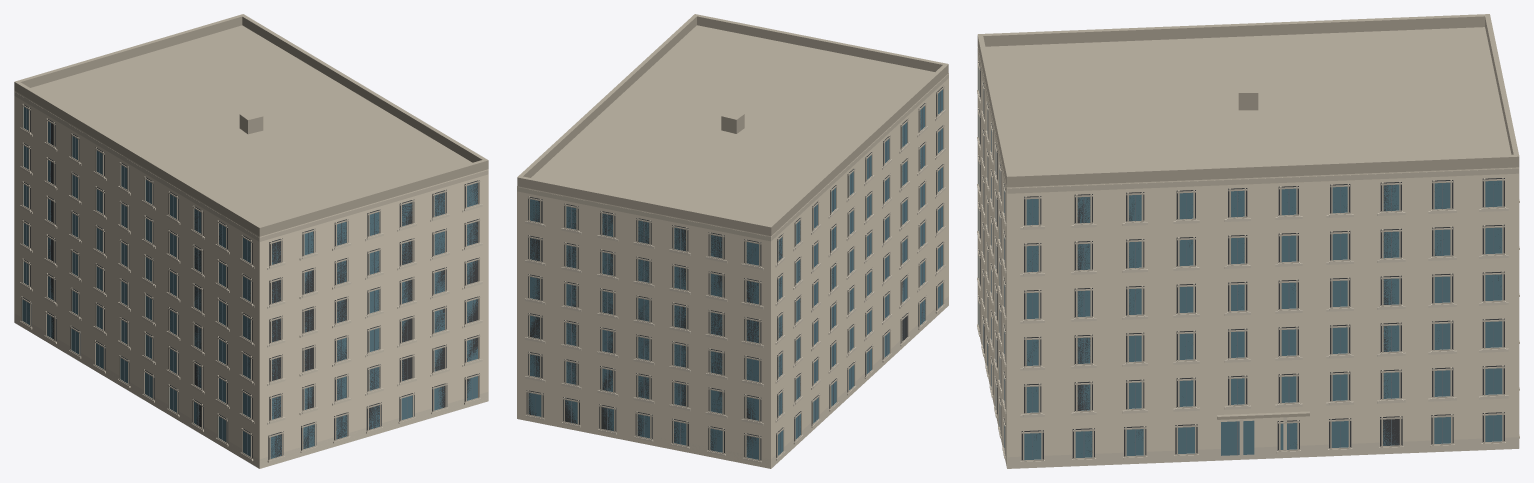
File: cop_art_deco_carioca_02__way_586695371.fbx
3 renders of one model, left to right at view 1: azimuth 30°, elevation 25°; view 2: azimuth 150°, elevation 25°; view 3: azimuth 270°, elevation 25°, orthographic. The views are drawn at different scales.
Parts seen in each view (by area): view 1: cop_art_deco_carioca_02__way_586695371_wall, cop_art_deco_carioca_02__way_586695371_roof, cop_art_deco_carioca_02__way_586695371_glass, cop_art_deco_carioca_02__way_586695371_trim, cop_art_deco_carioca_02__way_586695371_shadow, cop_art_deco_carioca_02__way_586695371_stone, cop_art_deco_carioca_02__way_586695371_metal; view 2: cop_art_deco_carioca_02__way_586695371_wall, cop_art_deco_carioca_02__way_586695371_roof, cop_art_deco_carioca_02__way_586695371_glass, cop_art_deco_carioca_02__way_586695371_trim, cop_art_deco_carioca_02__way_586695371_shadow, cop_art_deco_carioca_02__way_586695371_stone, cop_art_deco_carioca_02__way_586695371_metal; view 3: cop_art_deco_carioca_02__way_586695371_wall, cop_art_deco_carioca_02__way_586695371_roof, cop_art_deco_carioca_02__way_586695371_glass, cop_art_deco_carioca_02__way_586695371_trim, cop_art_deco_carioca_02__way_586695371_stone, cop_art_deco_carioca_02__way_586695371_shadow, cop_art_deco_carioca_02__way_586695371_metal.
Part boxes in pixels (<box>): cop_art_deco_carioca_02__way_586695371_wall: <box>14,90,488,468</box>; cop_art_deco_carioca_02__way_586695371_roof: <box>14,14,488,236</box>; cop_art_deco_carioca_02__way_586695371_glass: <box>22,107,477,458</box>; cop_art_deco_carioca_02__way_586695371_trim: <box>14,91,488,460</box>; cop_art_deco_carioca_02__way_586695371_shadow: <box>21,104,479,460</box>; cop_art_deco_carioca_02__way_586695371_stone: <box>14,127,488,468</box>; cop_art_deco_carioca_02__way_586695371_metal: <box>26,108,472,457</box>; cop_art_deco_carioca_02__way_586695371_wall: <box>517,73,948,468</box>; cop_art_deco_carioca_02__way_586695371_roof: <box>517,14,948,235</box>; cop_art_deco_carioca_02__way_586695371_glass: <box>528,89,942,459</box>; cop_art_deco_carioca_02__way_586695371_trim: <box>517,74,948,461</box>; cop_art_deco_carioca_02__way_586695371_shadow: <box>526,87,942,460</box>; cop_art_deco_carioca_02__way_586695371_stone: <box>525,109,948,468</box>; cop_art_deco_carioca_02__way_586695371_metal: <box>535,91,940,458</box>; cop_art_deco_carioca_02__way_586695371_wall: <box>977,46,1519,468</box>; cop_art_deco_carioca_02__way_586695371_roof: <box>977,14,1519,419</box>; cop_art_deco_carioca_02__way_586695371_glass: <box>978,68,1502,460</box>; cop_art_deco_carioca_02__way_586695371_trim: <box>977,47,1518,461</box>; cop_art_deco_carioca_02__way_586695371_stone: <box>977,90,1519,468</box>; cop_art_deco_carioca_02__way_586695371_shadow: <box>978,62,1504,460</box>; cop_art_deco_carioca_02__way_586695371_metal: <box>979,70,1493,459</box>.
Size of the model in its own units: 2237 by 1912 by 3147.
